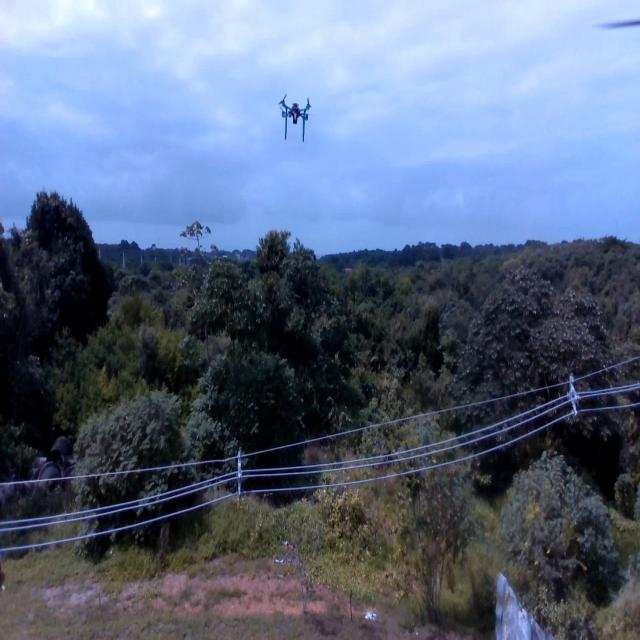-uav-: (272, 83, 319, 149)
